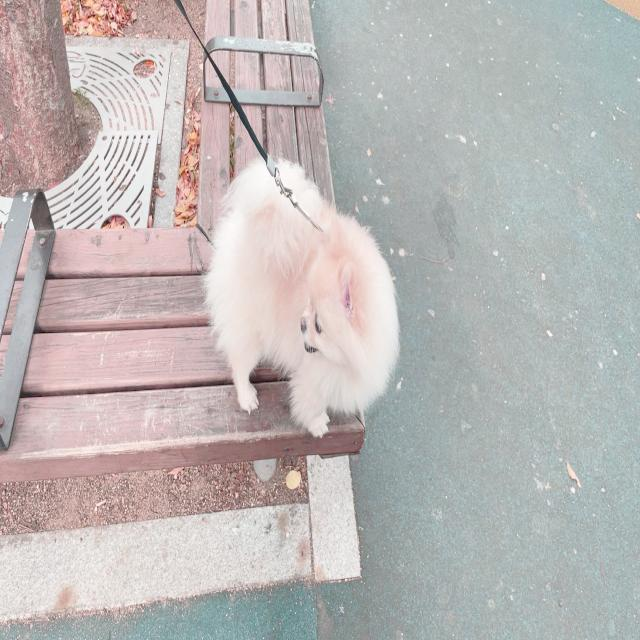Dog: (207, 156, 399, 438)
